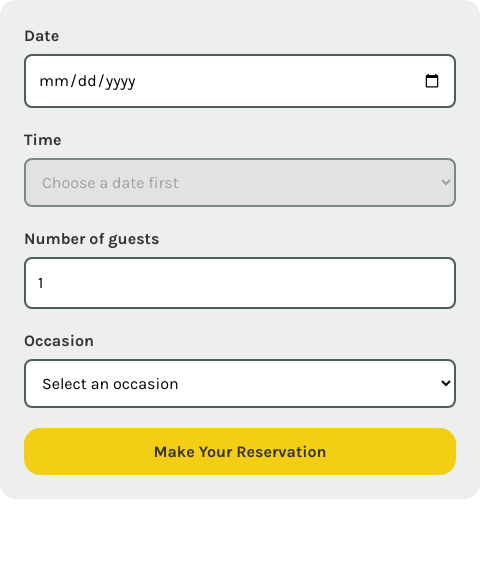
BookingForm – validation & error messages › rejects 0 guests on blur
The width and height of the screenshot is (497, 565).
Step 1. Replace the text in the number field labelled "Number of guests" with "0" → (240, 283), box [24,257,456,309]
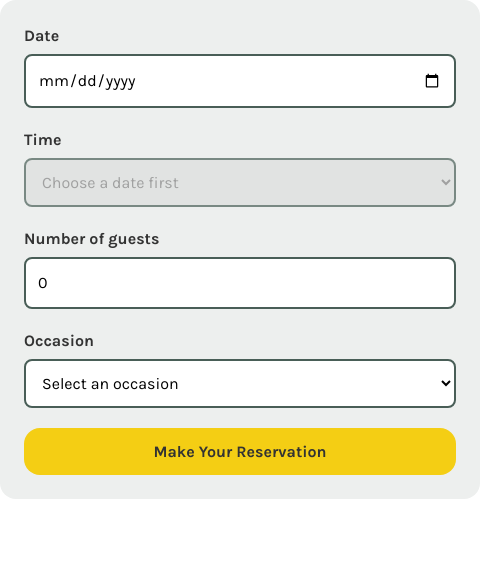
Step 2. Leave the number field labelled "Number of guests", box [24,257,456,309]
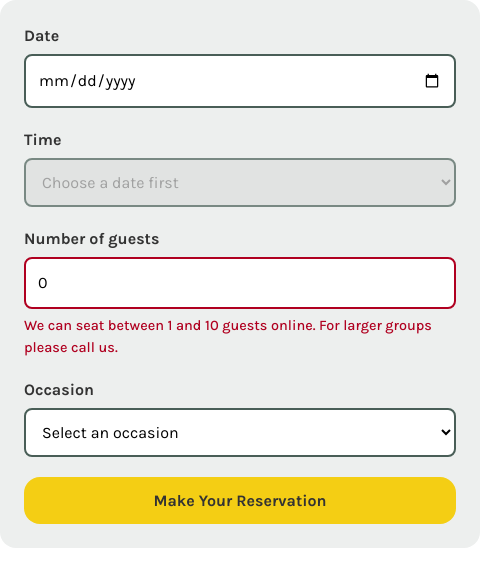
Expected: the message "We can seat between 1 and 10 guests online. For larger groups please call us." is shown, [24,315,456,358]
